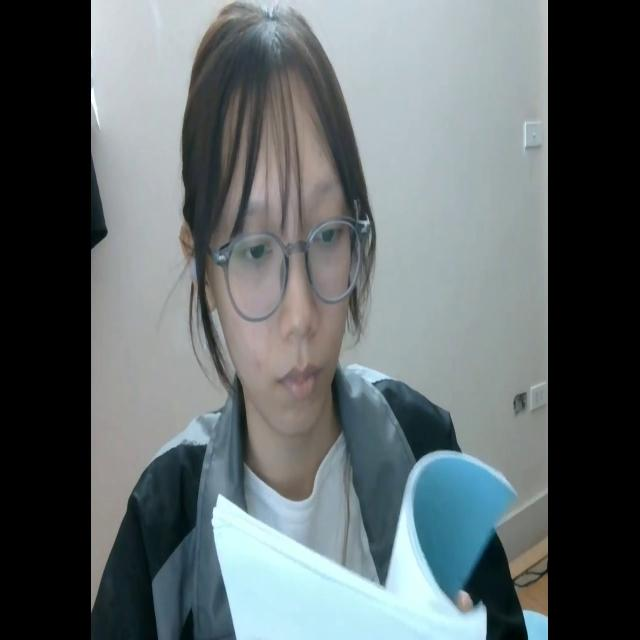book: (208, 446, 516, 640)
student: (100, 3, 525, 640)
